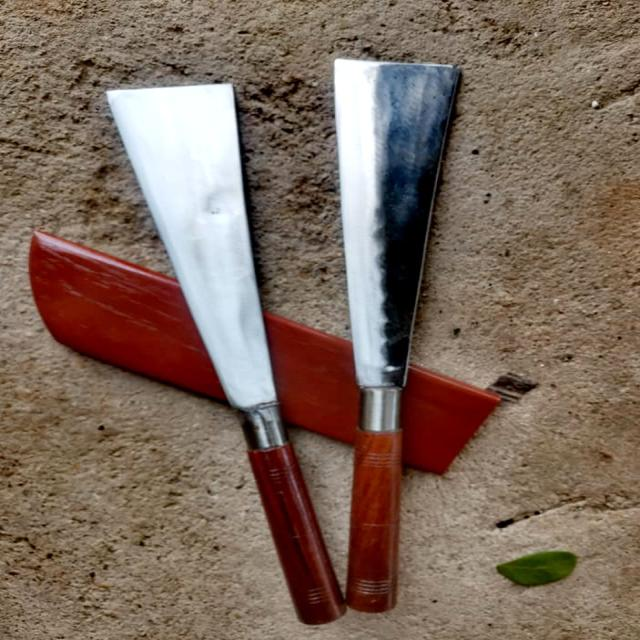eto: (93, 73, 355, 630), (323, 47, 474, 619)
